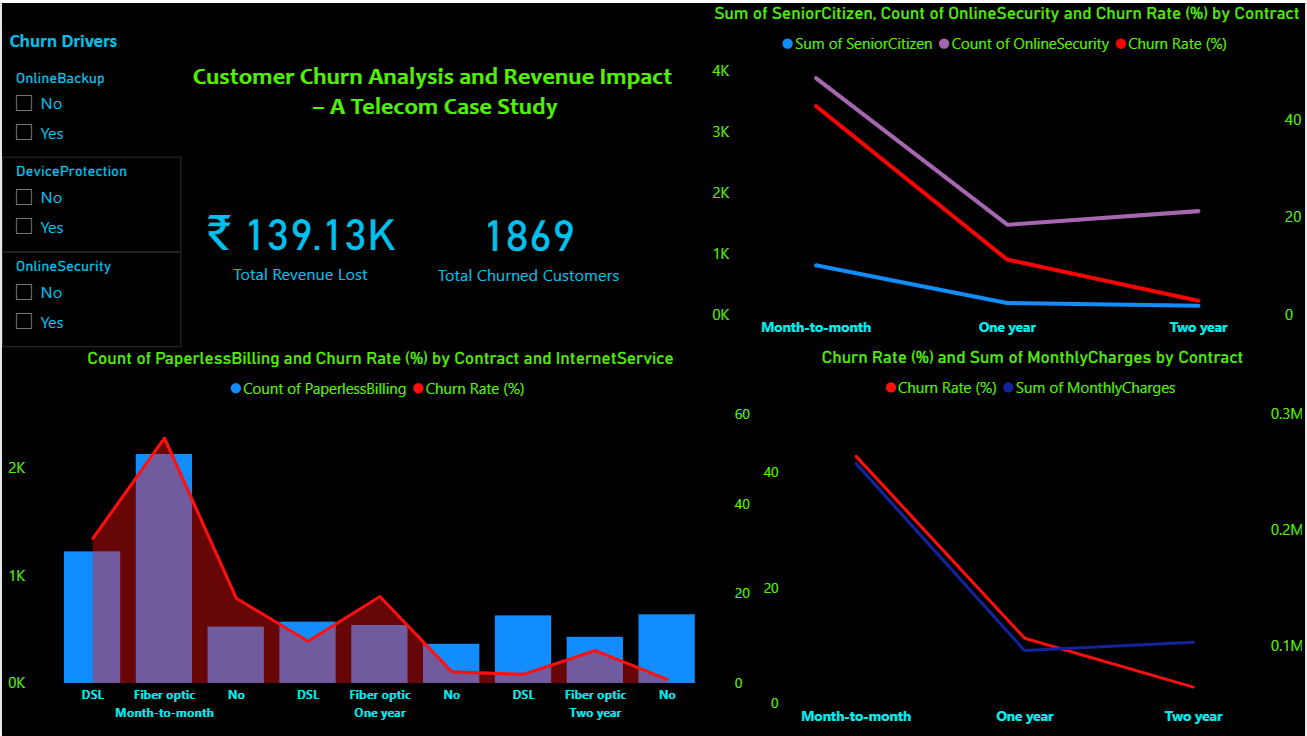

What the dashboard file says about the page in this screenshot:
{"tool":"powerbi","page":{"name":"Page 1","canvas":[1280,720],"ordinal":0},"visuals":[{"type":"lineChart","fields":{"Category":["WA_Fn-UseC_-Telco-Customer-Churn.Contract"],"Y":["WA_Fn-UseC_-Telco-Customer-Churn.Churn Rate (%)"],"Y2":["Sum(WA_Fn-UseC_-Telco-Customer-Churn.MonthlyCharges)"]},"box":[741.8,337.9,538.5,381.9],"z":0},{"type":"lineClusteredColumnComboChart","fields":{"Category":["WA_Fn-UseC_-Telco-Customer-Churn.Contract","WA_Fn-UseC_-Telco-Customer-Churn.InternetService"],"Y":["CountNonNull(WA_Fn-UseC_-Telco-Customer-Churn.PaperlessBilling)"],"Y2":["WA_Fn-UseC_-Telco-Customer-Churn.Churn Rate (%)"]},"box":[0,337.9,741.8,381.9],"z":1000},{"type":"lineChart","fields":{"Category":["WA_Fn-UseC_-Telco-Customer-Churn.Contract"],"Y":["Sum(WA_Fn-UseC_-Telco-Customer-Churn.SeniorCitizen)","CountNonNull(WA_Fn-UseC_-Telco-Customer-Churn.OnlineSecurity)"],"Y2":["WA_Fn-UseC_-Telco-Customer-Churn.Churn Rate (%)"]},"box":[691.6,0,588.7,337.6],"z":2000},{"type":"card","fields":{"Values":["WA_Fn-UseC_-Telco-Customer-Churn.Total Churned Customers"]},"box":[411.7,188,209.9,94.7],"z":3000},{"type":"card","fields":{"Values":["WA_Fn-UseC_-Telco-Customer-Churn.Total Revenue Lost"]},"box":[188,186.6,211.3,94.7],"z":4000},{"type":"slicer","fields":{"Values":["WA_Fn-UseC_-Telco-Customer-Churn.OnlineBackup"]},"box":[0,58.6,175.6,91.9],"z":5000},{"type":"slicer","fields":{"Values":["WA_Fn-UseC_-Telco-Customer-Churn.DeviceProtection"]},"box":[0,150.6,175.6,93.3],"z":6000},{"type":"textbox","box":[175.8,50.8,494.5,100.3],"z":7000},{"type":"slicer","fields":{"Values":["WA_Fn-UseC_-Telco-Customer-Churn.OnlineSecurity"]},"box":[0,243.9,175.6,93.3],"z":8000},{"type":"textbox","box":[0,17.8,175.6,41.2],"z":9000}]}

Visuals, with their boxes in screenshot pixels (x1, y1, x2, y2), scaled from the page's 1280x720 canvas onto the 1307x736 screenshot:
lineChart - WA_Fn-UseC_-Telco-Customer-Churn.Contract x WA_Fn-UseC_-Telco-Customer-Churn.Churn Rate (%): 757,345,1306,735
lineClusteredColumnComboChart - WA_Fn-UseC_-Telco-Customer-Churn.Contract x WA_Fn-UseC_-Telco-Customer-Churn.InternetService: 0,345,757,735
lineChart - WA_Fn-UseC_-Telco-Customer-Churn.Contract x Sum(WA_Fn-UseC_-Telco-Customer-Churn.SeniorCitizen): 706,0,1306,345
card - WA_Fn-UseC_-Telco-Customer-Churn.Total Churned Customers: 420,192,635,289
card - WA_Fn-UseC_-Telco-Customer-Churn.Total Revenue Lost: 192,191,408,288
slicer - WA_Fn-UseC_-Telco-Customer-Churn.OnlineBackup: 0,60,179,154
slicer - WA_Fn-UseC_-Telco-Customer-Churn.DeviceProtection: 0,154,179,249
textbox: 180,52,684,154
slicer - WA_Fn-UseC_-Telco-Customer-Churn.OnlineSecurity: 0,249,179,345
textbox: 0,18,179,60
